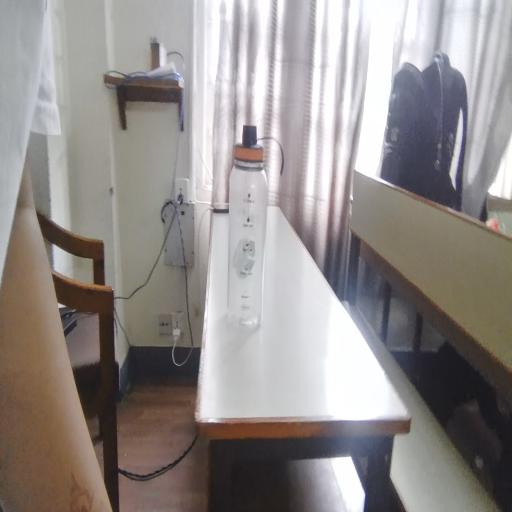Bottle: (229, 111, 279, 350)
